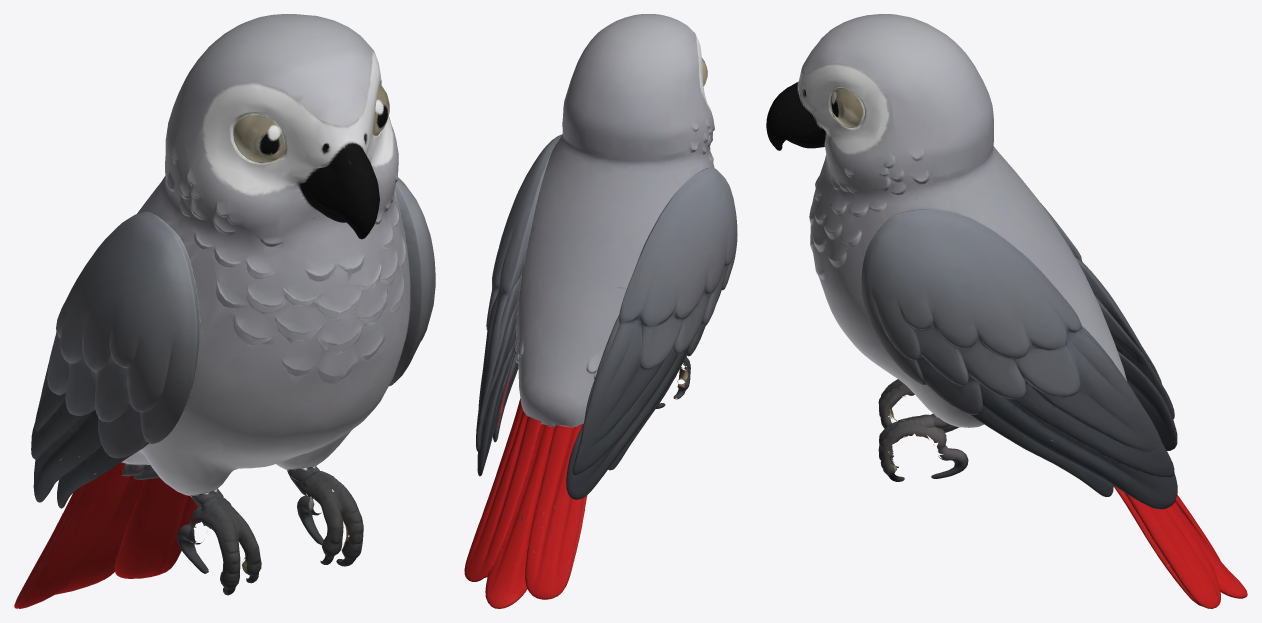
File: anime.glb
3 renders of one model, left to right at view 1: azimuth 30°, elevation 25°; view 2: azimuth 150°, elevation 25°; view 3: azimuth 270°, elevation 25°, orthographic. The views are drawn at different scales.
Visible parts, largest first — view 1: parrot_body; view 2: parrot_body; view 3: parrot_body.
Part boxes in pixels (x1,y1,x2,y2): parrot_body: (14, 14, 435, 608); parrot_body: (464, 14, 737, 608); parrot_body: (766, 14, 1247, 608).
Size of the model in its own units: 0.1249 by 0.28 by 0.2133.
Materials: 1 (1 with a texture image).
